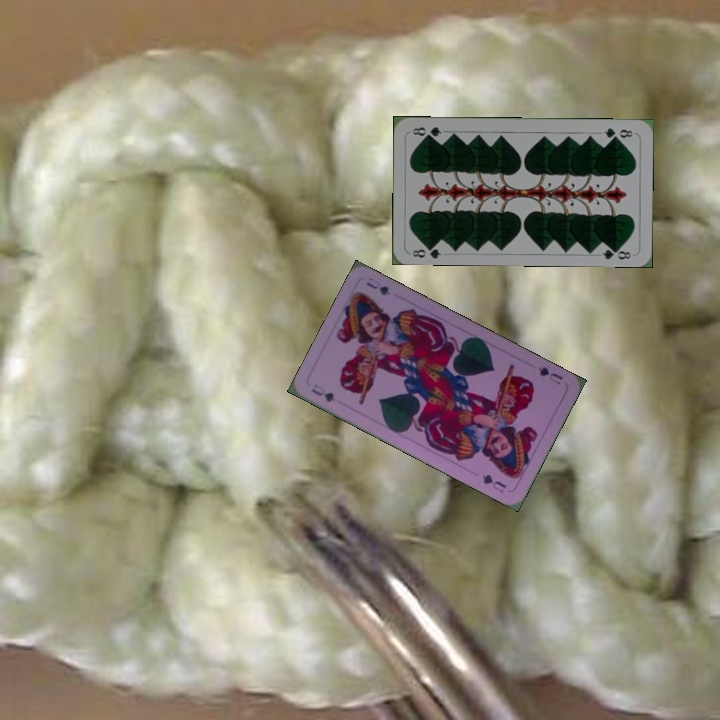G8: (409, 241, 443, 260), (600, 124, 635, 141)
GU: (534, 362, 565, 387), (307, 380, 338, 405)
